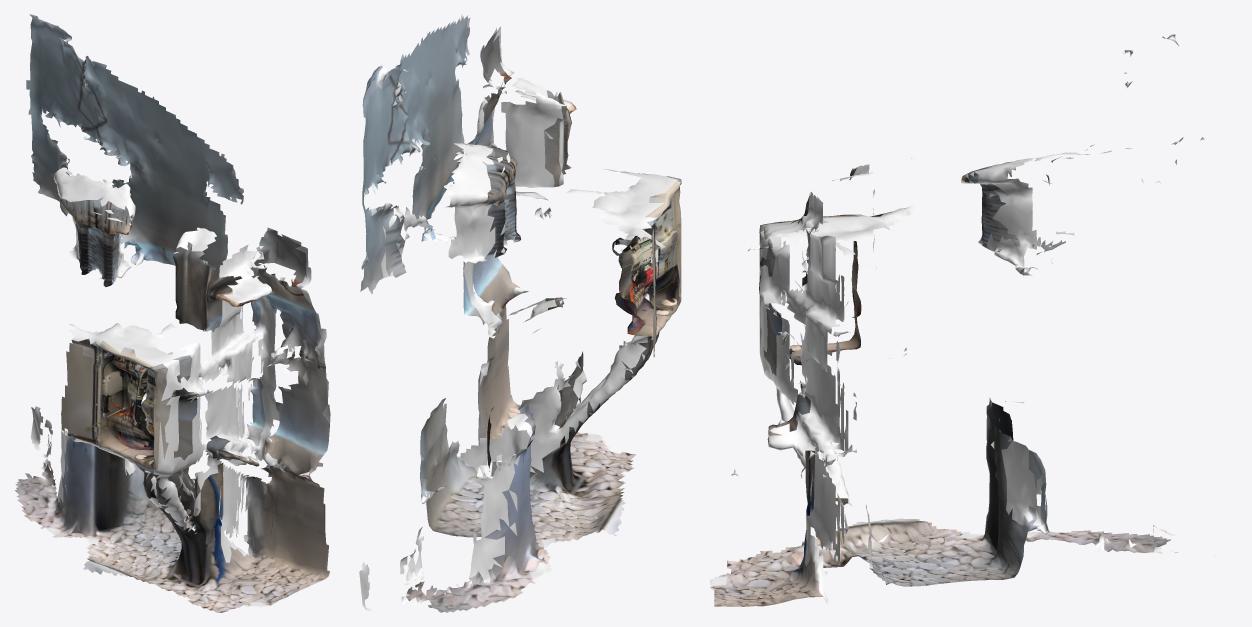
3 views of the same model, side by side, from view 1: azimuth 30°, elevation 25°; view 2: azimuth 150°, elevation 25°; view 3: azimuth 270°, elevation 25° (orthographic). The views are drawn at different scales.
Visible parts, largest first — view 1: texture_0, object 1; view 2: texture_0, object 1; view 3: object 1, texture_0.
Boxes of the visible parts, x1,y1,x2,y2 form: texture_0: (15, 14, 329, 612); object 1: (30, 14, 330, 607); texture_0: (360, 17, 681, 612); object 1: (359, 14, 679, 611); object 1: (710, 34, 1204, 603); texture_0: (710, 50, 1183, 606).
Size of the model in its own units: 1.36 by 2.96 by 2.52.
2 materials, 1 textured.
